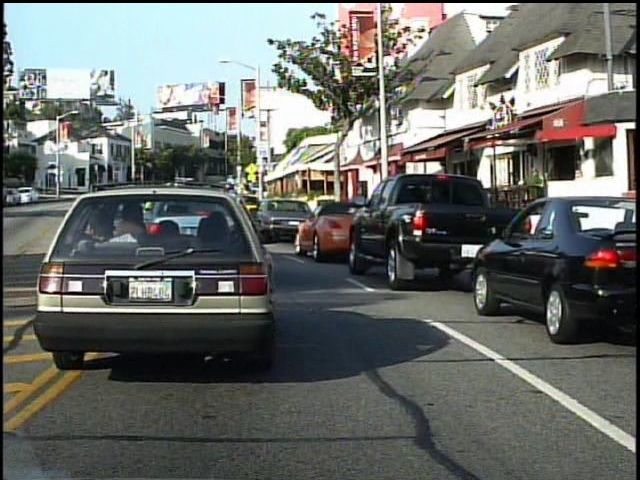person: (520, 161, 548, 225)
